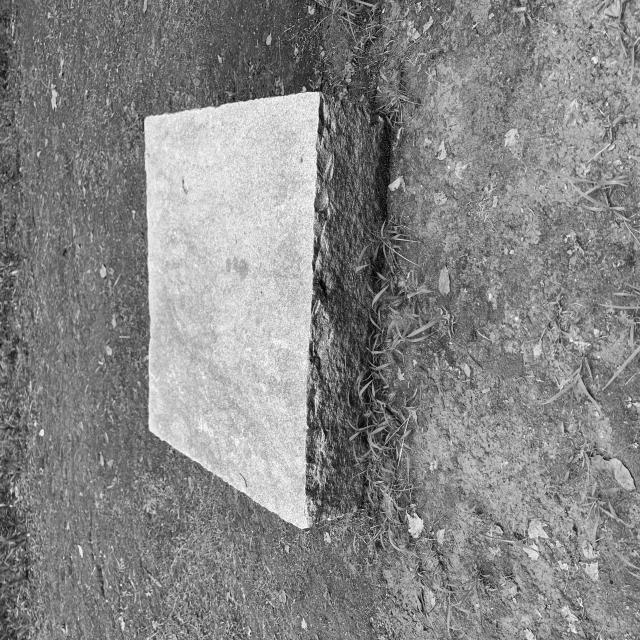Stone: (145, 92, 385, 528)
